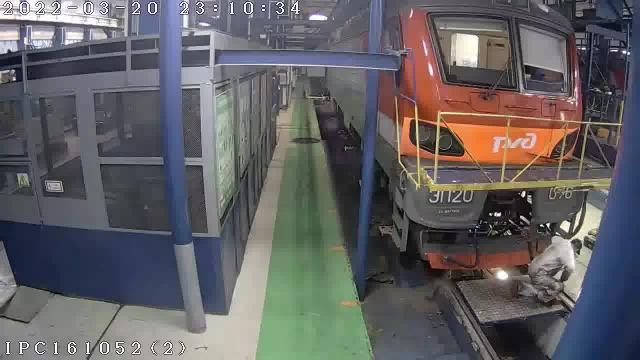person: (512, 236, 581, 303)
train: (376, 0, 585, 268)
